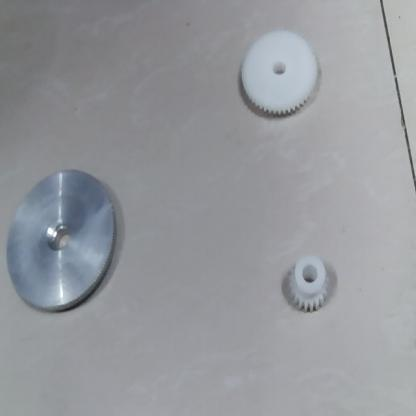FOD: (5, 166, 124, 322), (232, 30, 321, 123), (284, 254, 334, 322)
